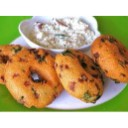vada: (3, 49, 61, 107), (56, 52, 103, 103), (93, 34, 128, 82)
